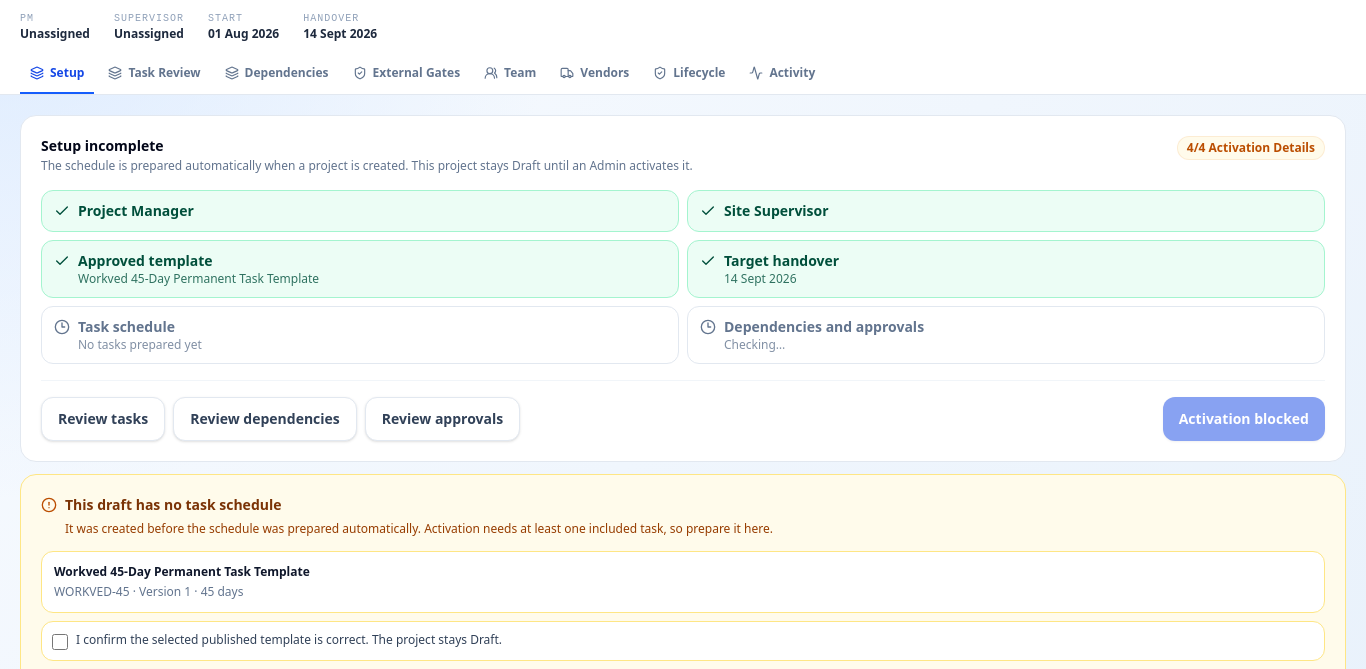
Test case: Draft project setup › drafts created before setup became automatic › offers a confirmed fallback and generates once
Expected: the heading "This draft has no task schedule" is shown, [65,495,282,514]
Click the checkbox. click: (60, 642)
box: [52,634,68,650]
(page scrolled)
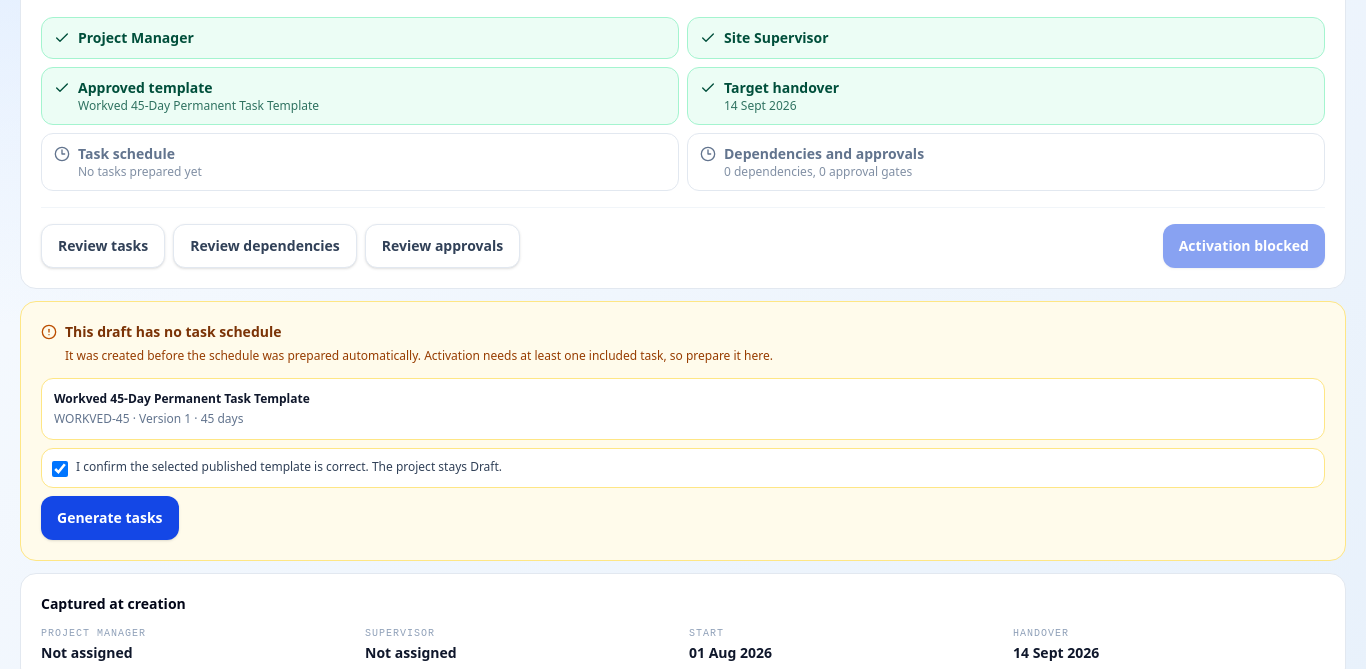
Click the button "Generate tasks". click: (110, 518)
box: [41,496,178,540]
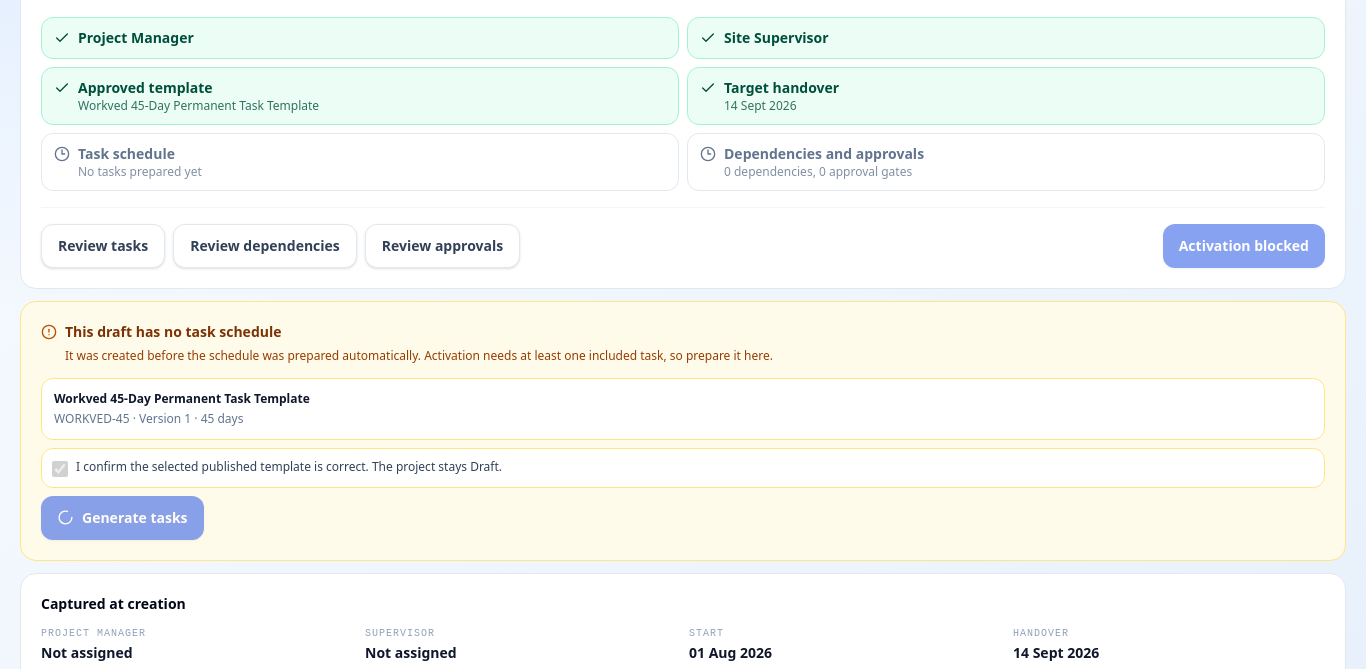
Click the button "Generate tasks". click: (122, 518)
box: [41,496,204,540]
(page scrolled)
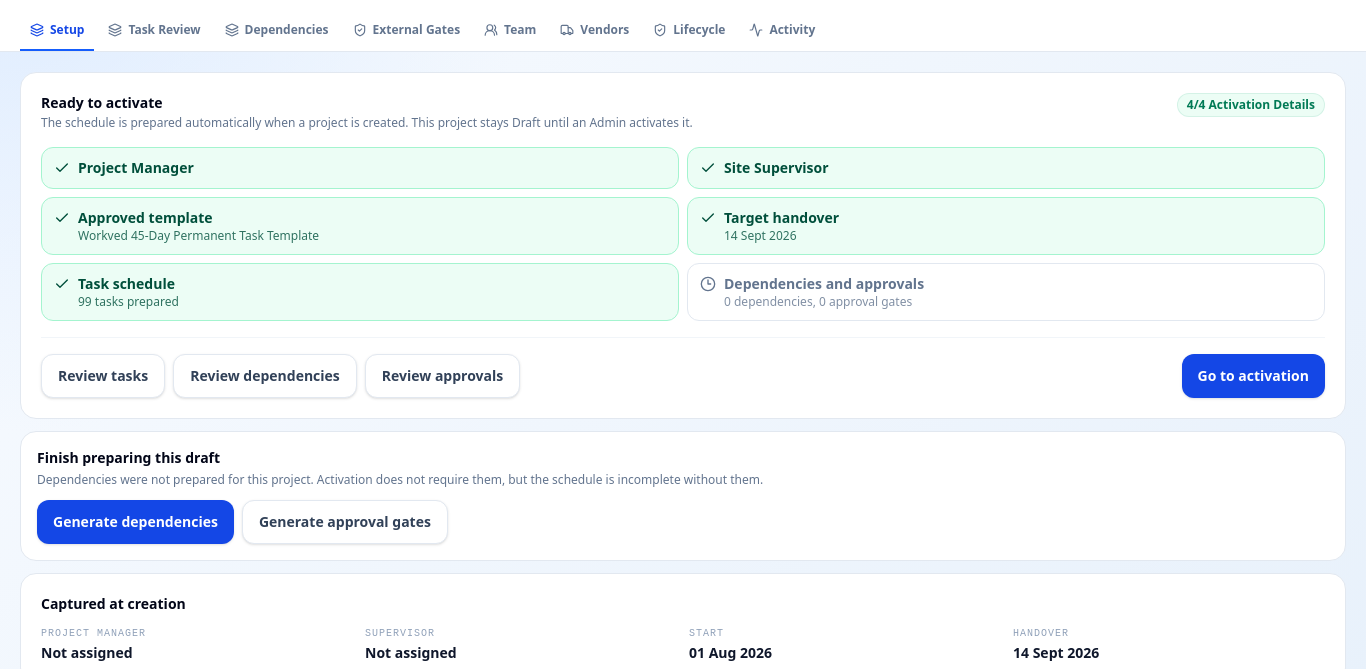
Expected: the text "99 tasks prepared" is shown, [78,294,179,310]
